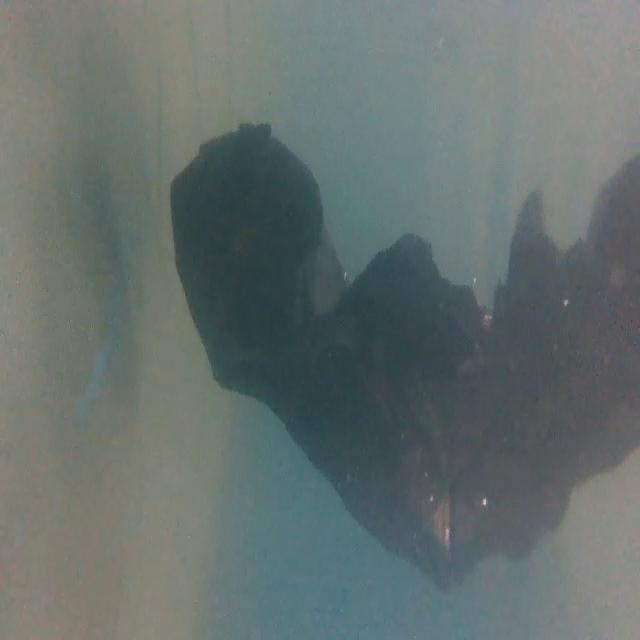plastic bags: (169, 119, 640, 592)
